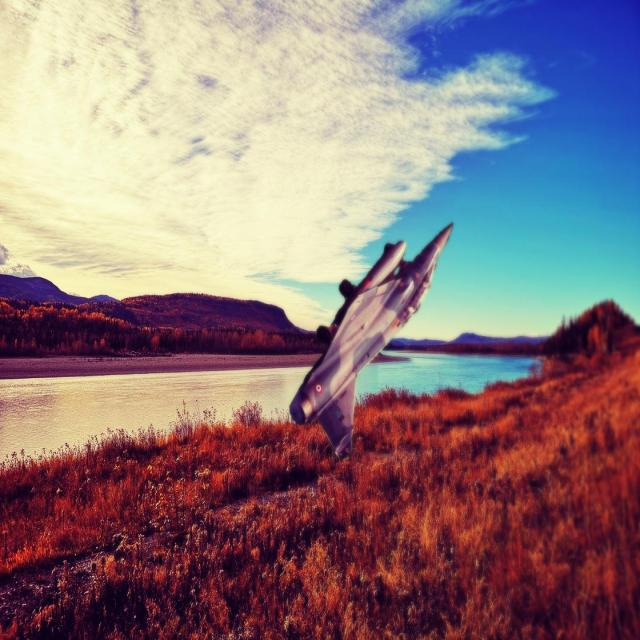airplane: (288, 220, 453, 462)
